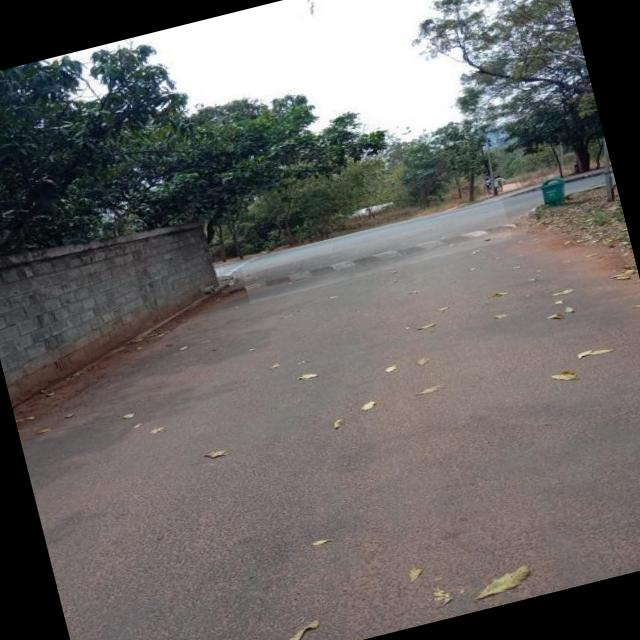bump: (240, 200, 512, 304)
